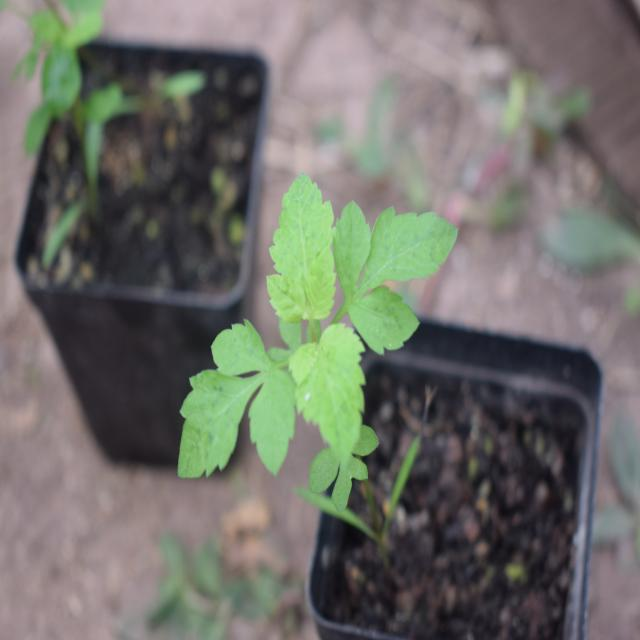Bidens pilosa: (161, 148, 459, 512)
